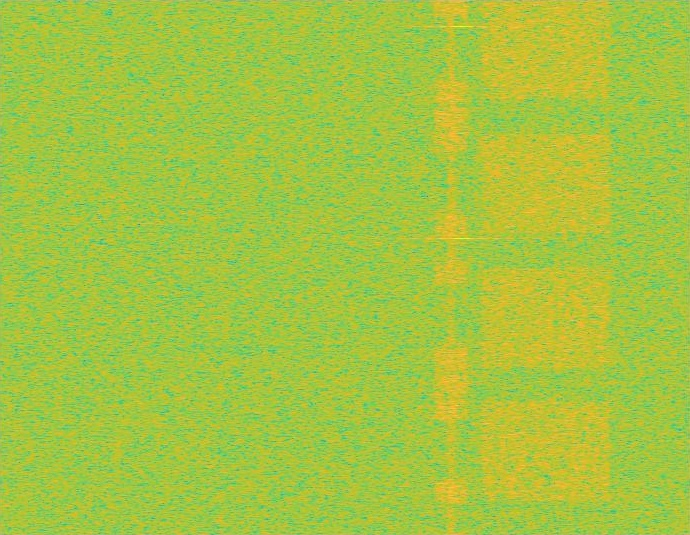5G: (477, 0, 615, 534)
DSSS: (448, 0, 455, 534)
LTE: (434, 0, 469, 534)
Radar: (455, 0, 469, 534)
